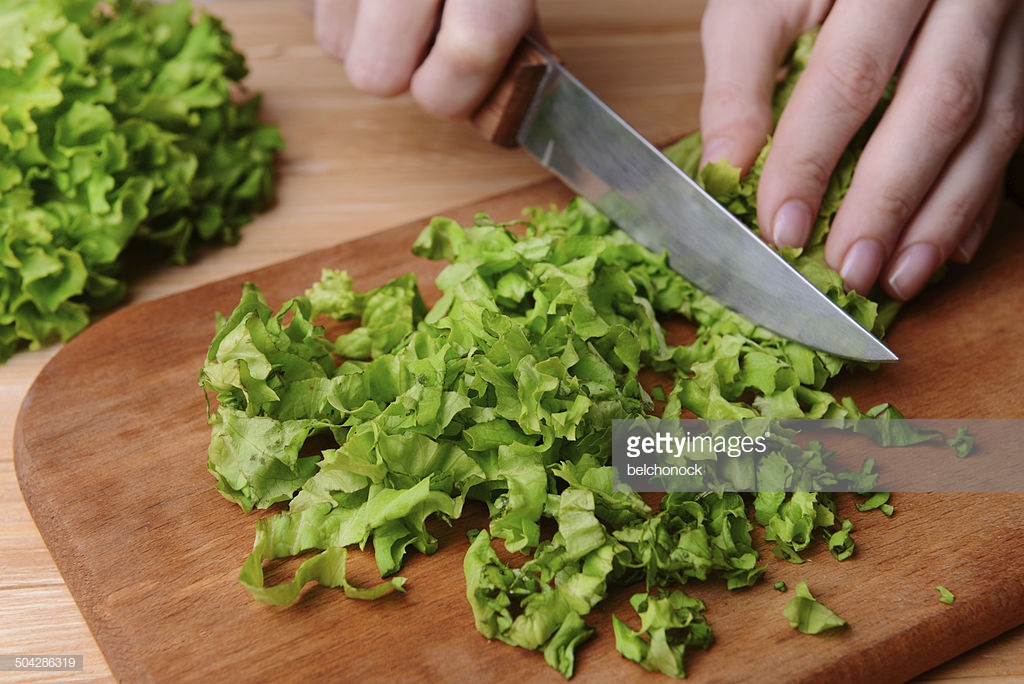chopped lettuce: (311, 293, 588, 547), (40, 34, 188, 242)
